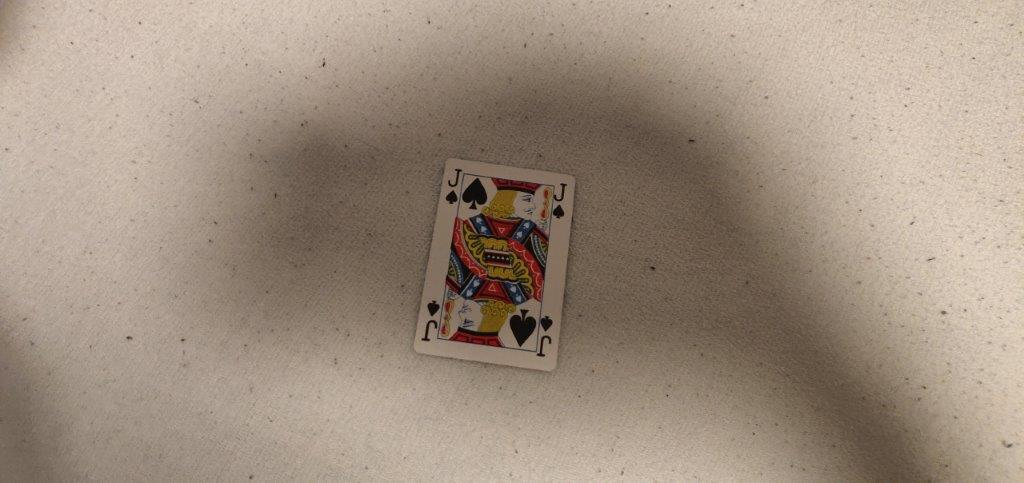JS: (443, 165, 462, 205), (552, 180, 570, 222)
